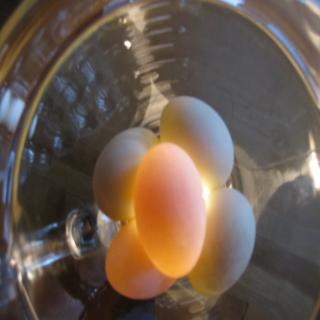Egg: (93, 97, 257, 301)
